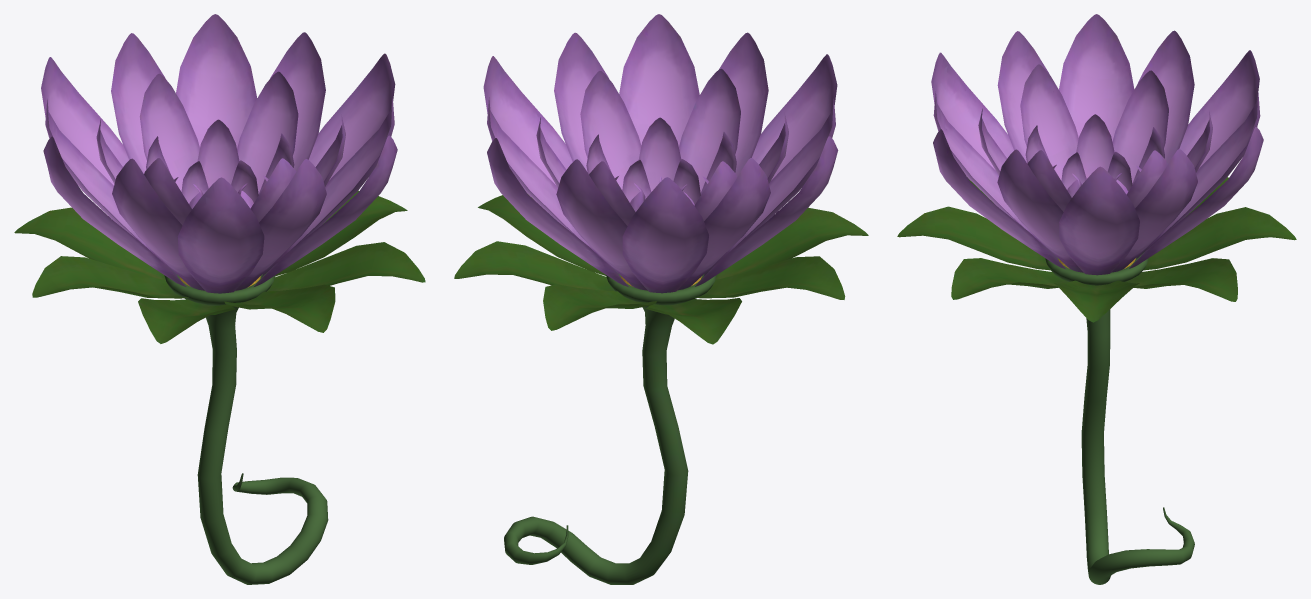
File: lotus-flower.glb
3 renders of one model, left to right at view 1: azimuth 30°, elevation 25°; view 2: azimuth 150°, elevation 25°; view 3: azimuth 270°, elevation 25°, orthographic. The views are drawn at different scales.
Parts seen in each view (by area): view 1: Flower_Lotus-Stylized; view 2: Flower_Lotus-Stylized; view 3: Flower_Lotus-Stylized.
Boxes of the visible parts, left/top/right/bottom form: Flower_Lotus-Stylized: left=14, top=14, right=425, bottom=584; Flower_Lotus-Stylized: left=454, top=14, right=868, bottom=584; Flower_Lotus-Stylized: left=897, top=14, right=1296, bottom=584.
Size of the model in its own units: 22.23 by 28.65 by 22.23.
Materials: 1 (1 with a texture image).
